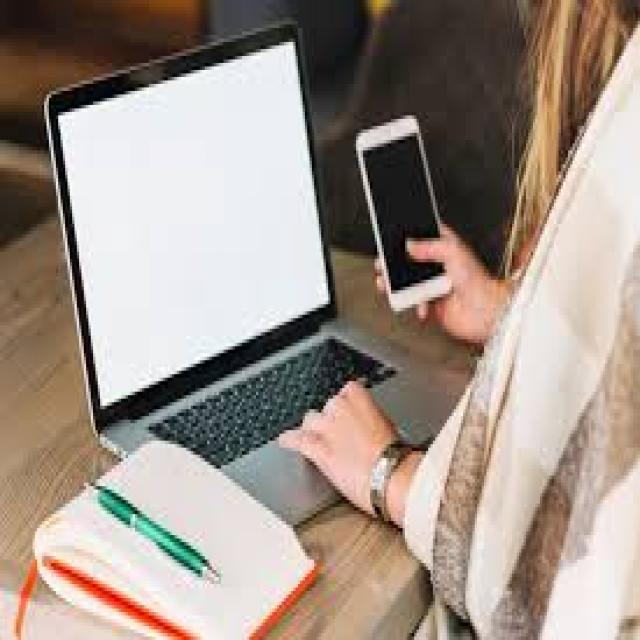book: (0, 409, 328, 640)
laptop: (0, 0, 489, 587)
mobile: (335, 88, 483, 332)
